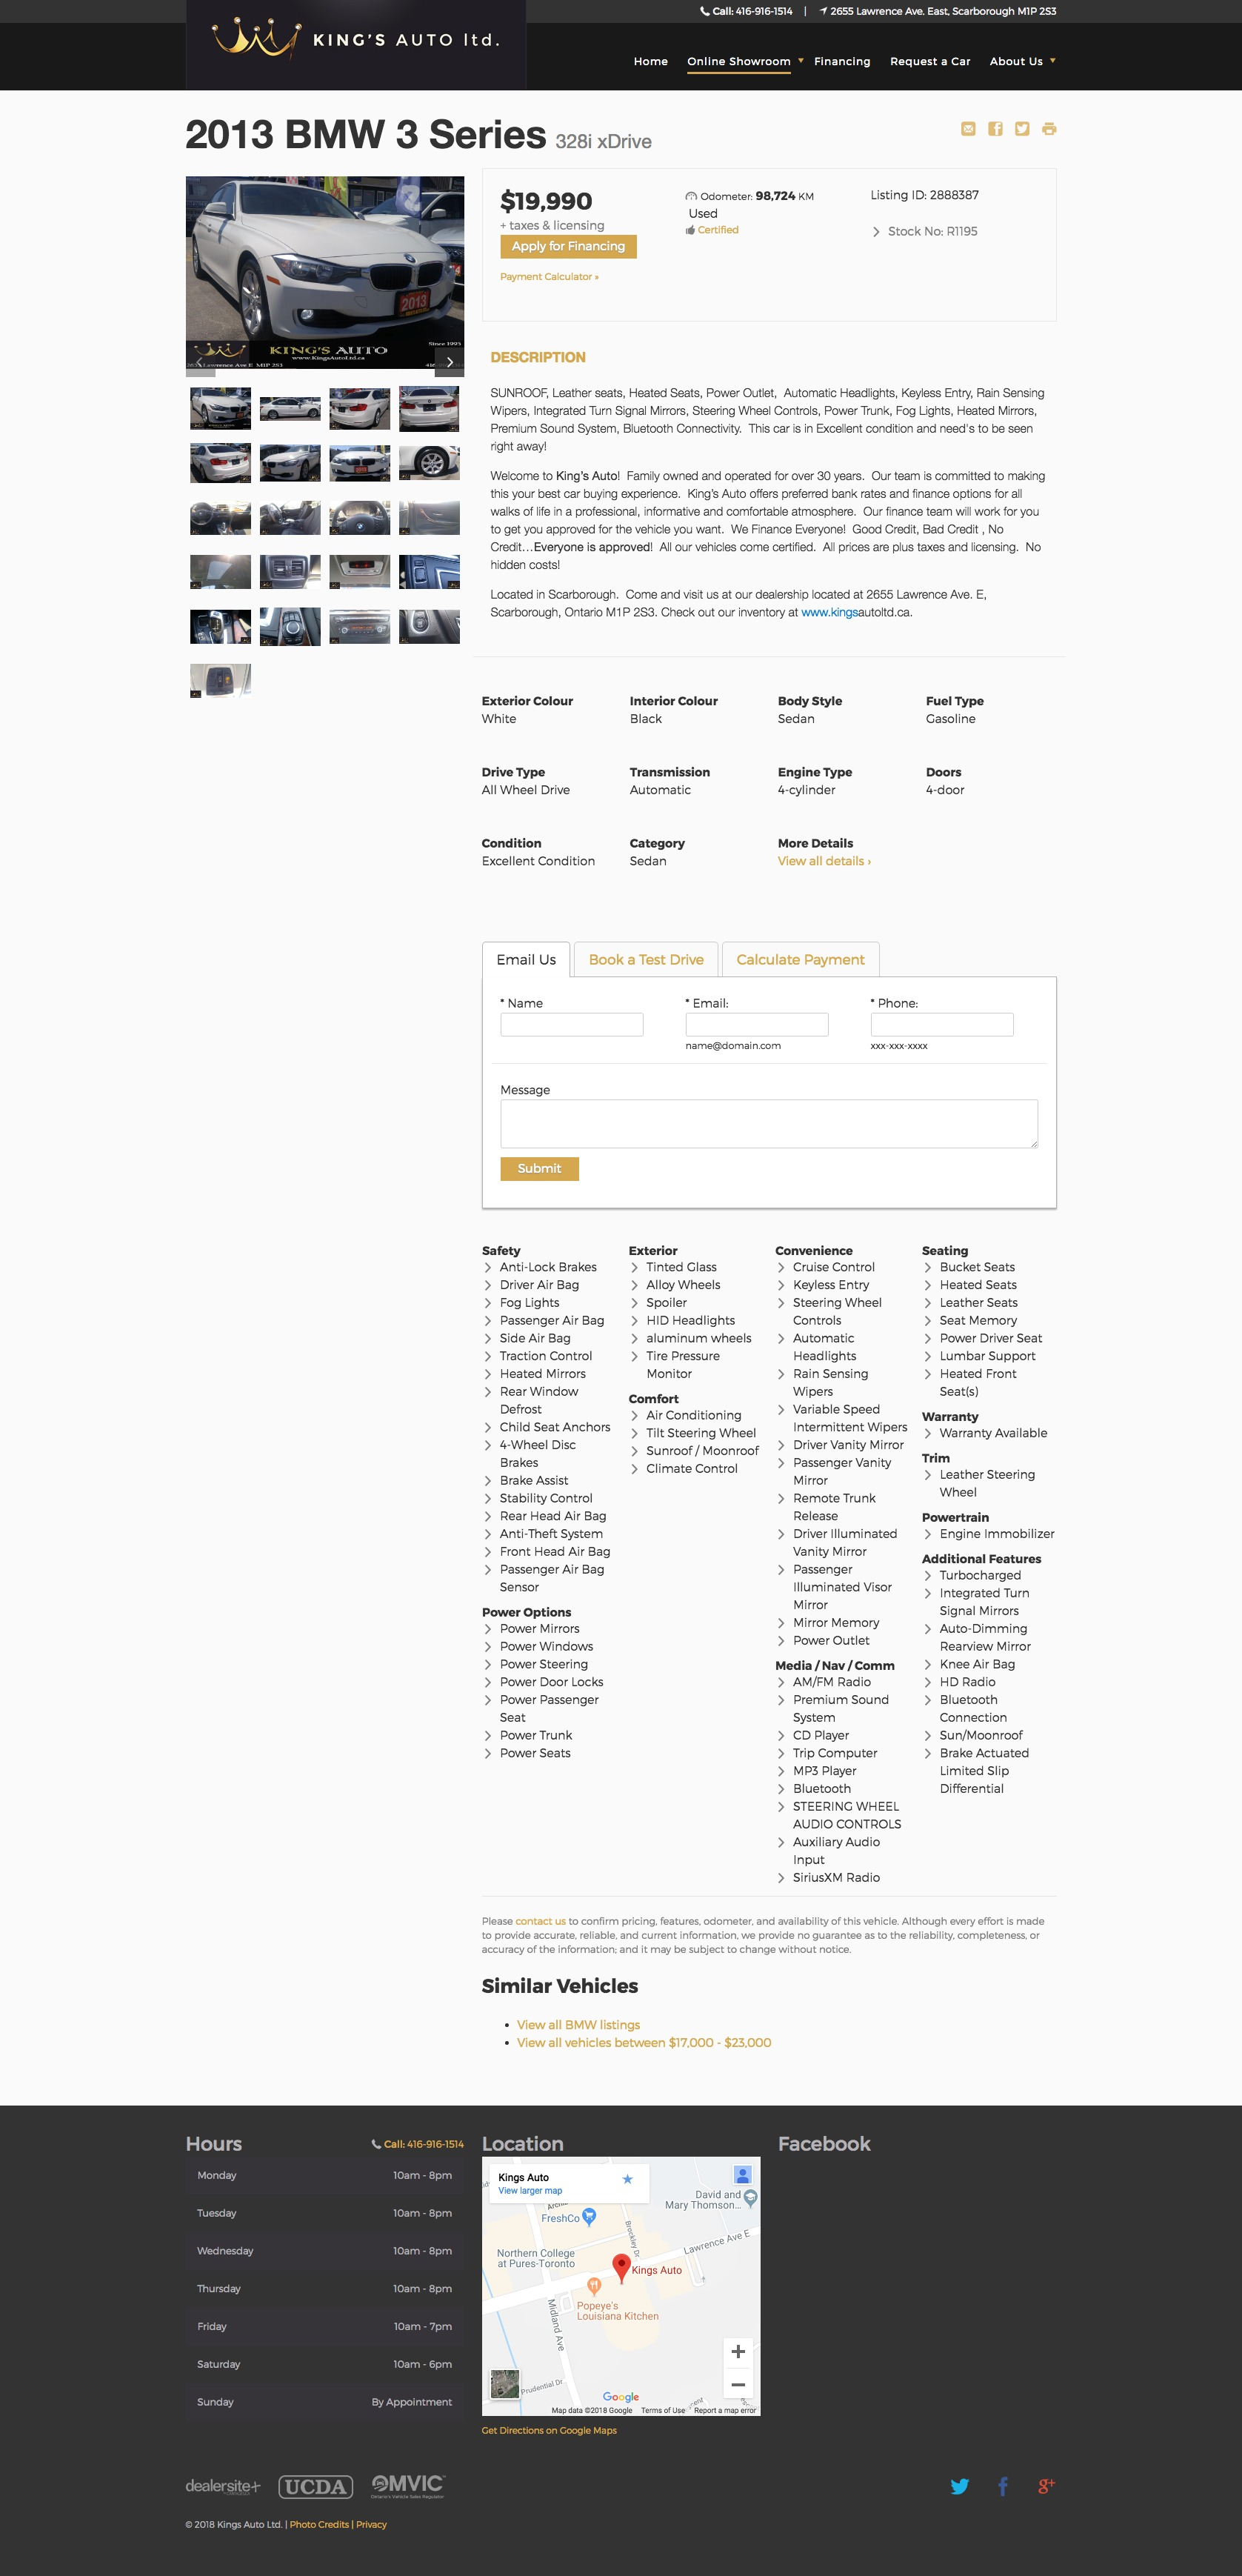car: (447, 356, 455, 370)
